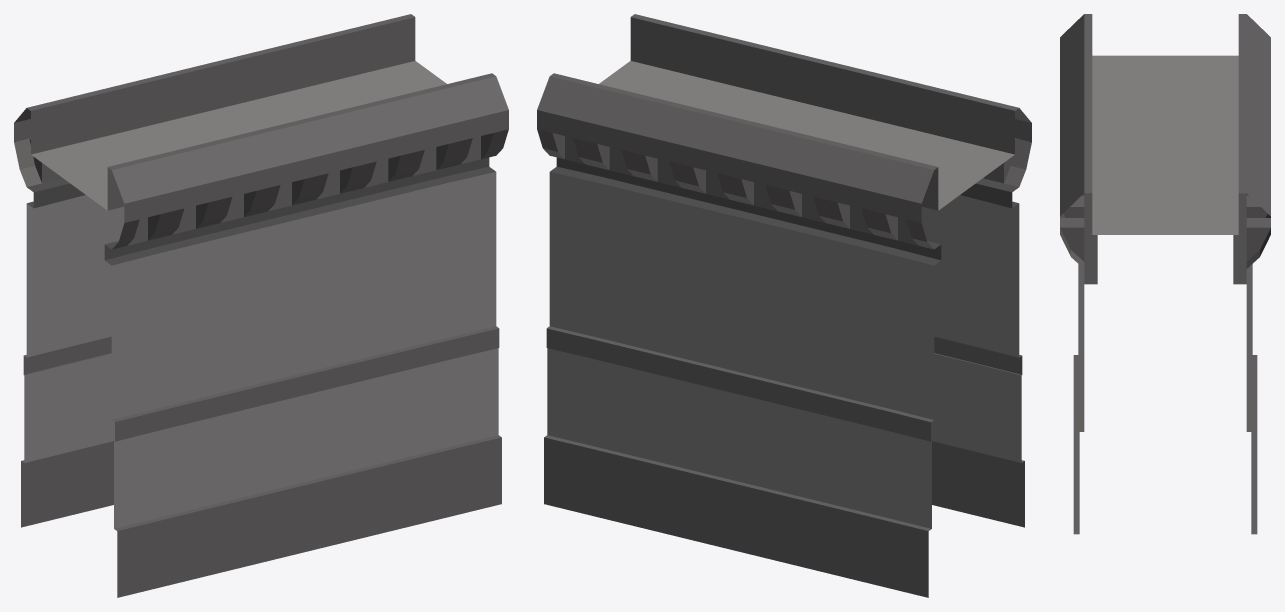
File: mesh_Wall.fbx
The picture shows the model from 3 angles, left to right: view 1: azimuth 30°, elevation 25°; view 2: azimuth 150°, elevation 25°; view 3: azimuth 270°, elevation 25°; orthographic projection. The views are drawn at different scales.
Visible parts, largest first — view 1: Wall; view 2: Wall; view 3: Wall.
Part boxes in pixels (bbox=[...]): Wall: bbox=[14, 14, 508, 597]; Wall: bbox=[537, 14, 1031, 597]; Wall: bbox=[1060, 14, 1270, 534].
Bounding box in the file's own units: 1187 × 1250 × 590.
1 material, 1 textured.
